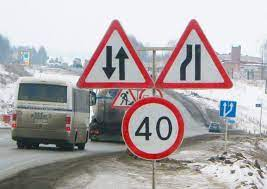1.18.3: (152, 18, 234, 88)
1.19.1: (77, 22, 153, 89)
